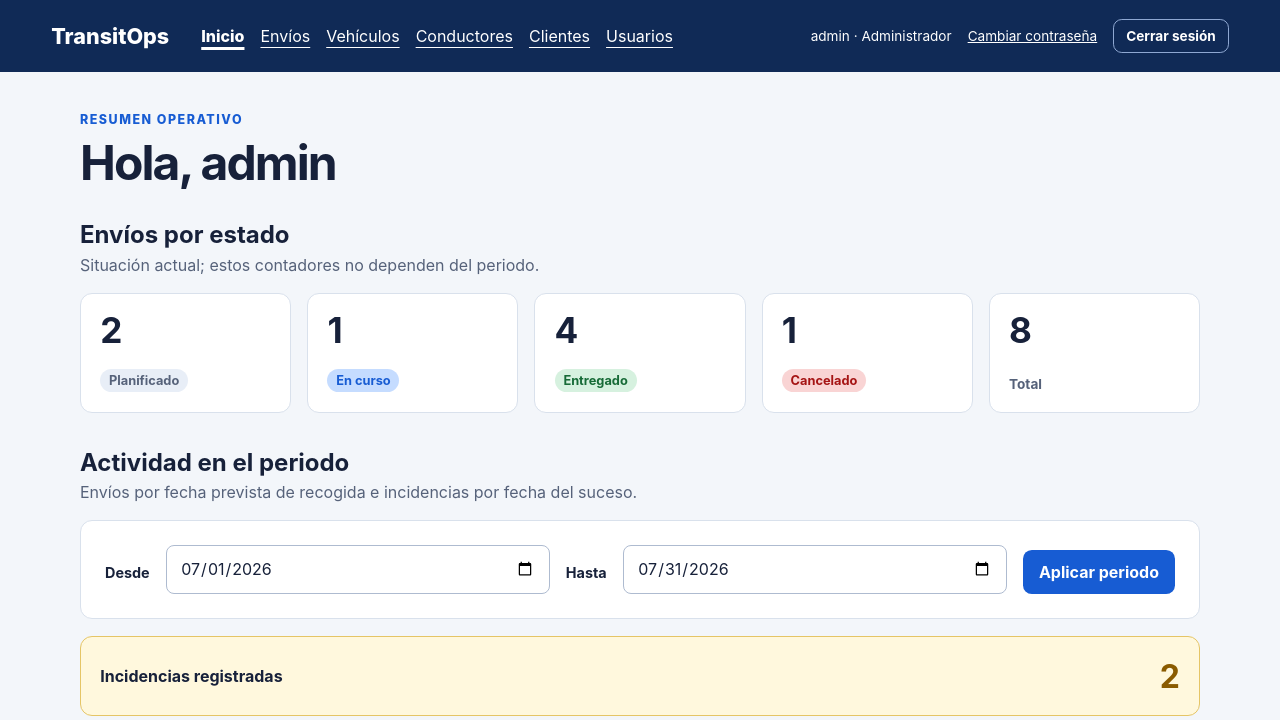
Test: sesión autenticada › logs out on the server and clears the in-memory session
The image size is (1280, 720).
Click the button "Cerrar sesión" at (1171, 36), box [1113, 19, 1229, 53]
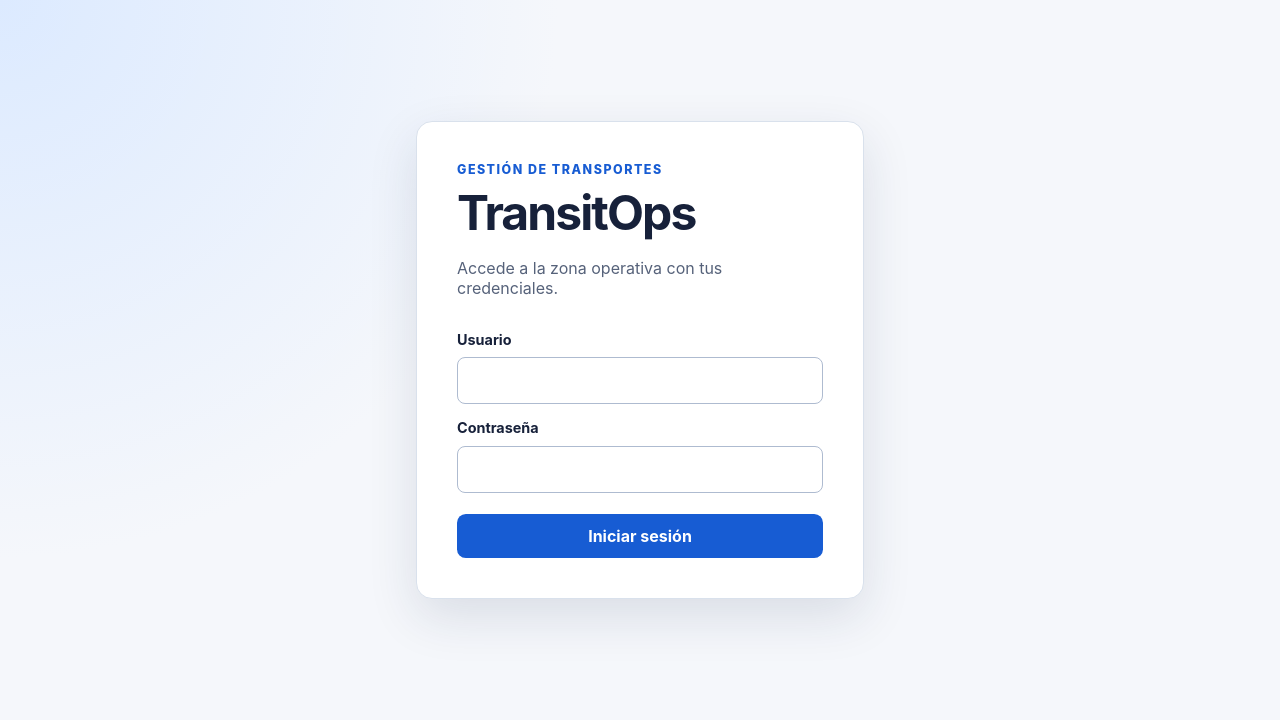
Check: the heading "TransitOps" is shown, box [457, 183, 695, 242]
